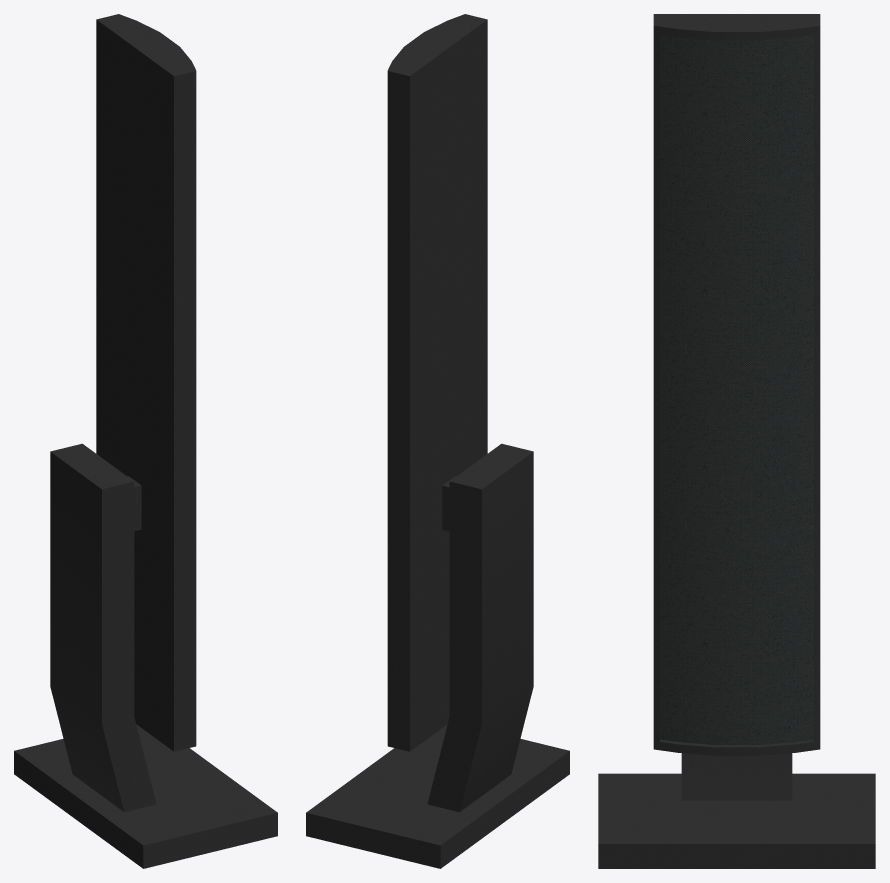
The model's file is speaker.glb.
3 views of the same model, side by side, from view 1: azimuth 30°, elevation 25°; view 2: azimuth 150°, elevation 25°; view 3: azimuth 270°, elevation 25° (orthographic). The views are drawn at different scales.
Visible parts, largest first — view 1: speaker; view 2: speaker; view 3: speaker.
Boxes of the visible parts, x1=… form: speaker: x1=14, y1=14, x2=277, y2=868; speaker: x1=306, y1=14, x2=569, y2=868; speaker: x1=598, y1=14, x2=875, y2=868.
Bounding box in the file's own units: 0.0612 × 0.324 × 0.1.
1 material, 1 textured.
